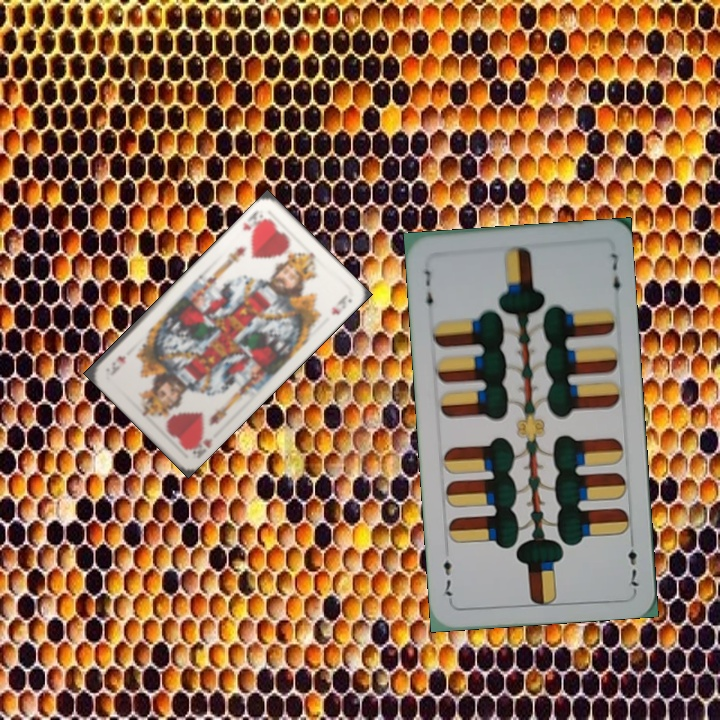E7: (624, 533, 642, 592), (420, 266, 436, 315)
HK: (183, 428, 215, 461), (239, 206, 269, 236)
